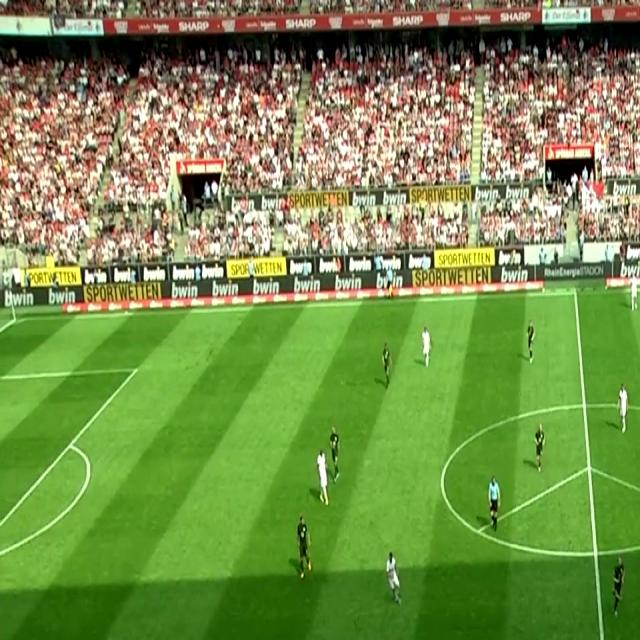referee: (484, 468, 503, 530)
soccer-player: (291, 513, 316, 582), (604, 548, 626, 623), (384, 546, 406, 616), (377, 335, 396, 392), (313, 444, 329, 508), (523, 312, 540, 367), (530, 417, 546, 474), (615, 378, 630, 438), (328, 425, 343, 484), (419, 323, 434, 372)
